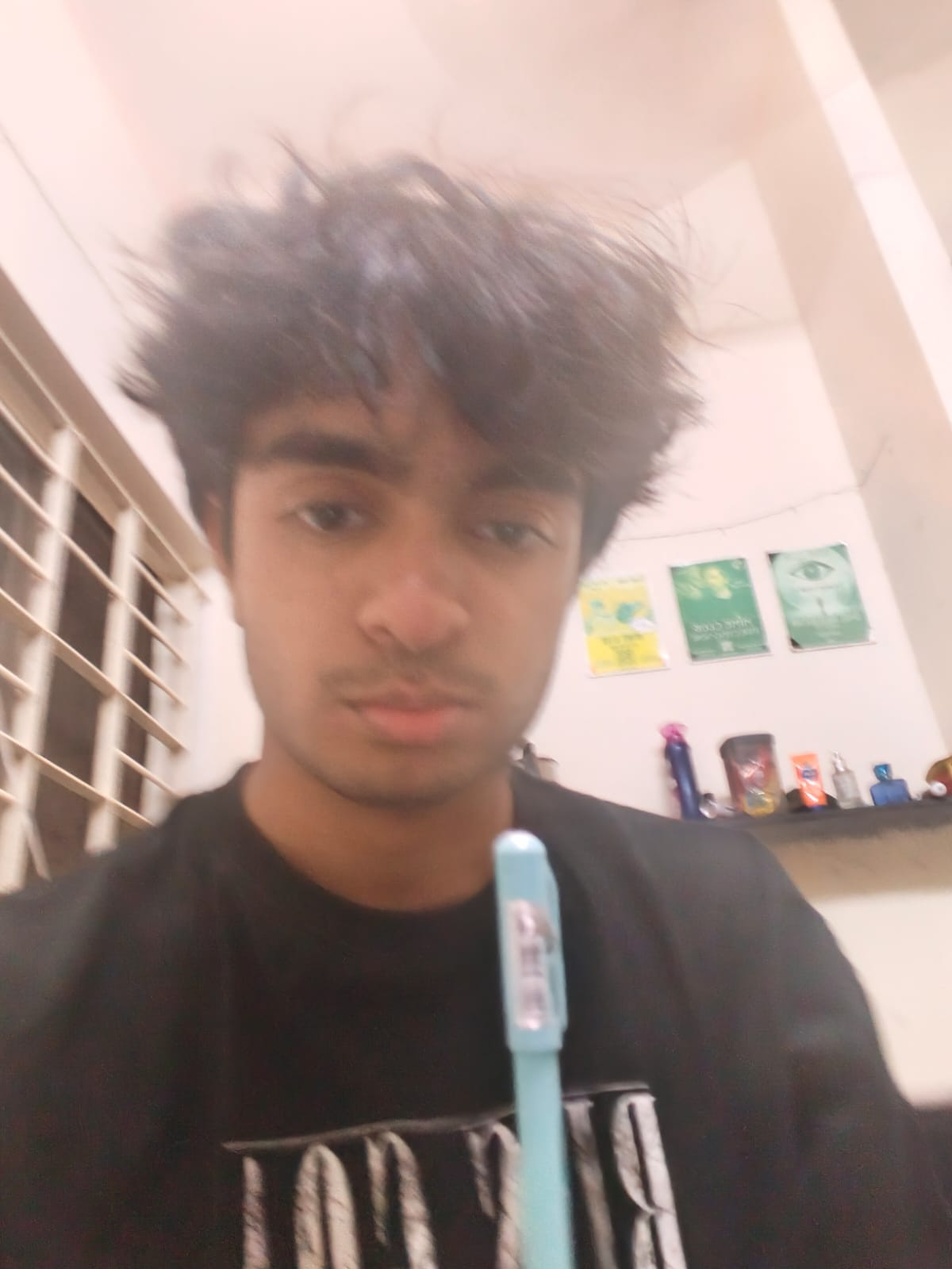pen: (453, 809, 627, 1269)
